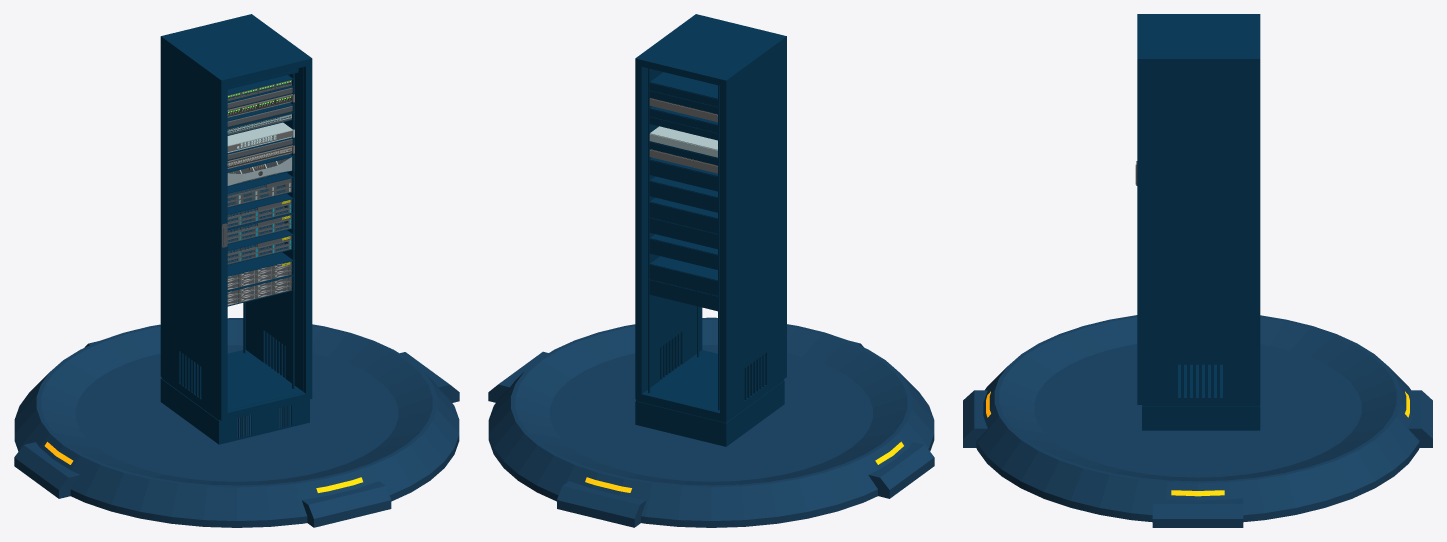
3 renders of one model, left to right at view 1: azimuth 30°, elevation 25°; view 2: azimuth 150°, elevation 25°; view 3: azimuth 270°, elevation 25°, orthographic.
Parts seen in each view (by area): view 1: Wyjf_Jg_Steel_Blue_001, JF_Gui Zi_Gray_002, JF_Men Kuang_002, JG_B_Steel_Black_001, JG_B_Chou Ti_Black_001, JG_B_Gray_001, JG_B_Chou Ti_White_001, JG_B_Kong Dong_001; view 2: Wyjf_Jg_Steel_Blue_001, JF_Gui Zi_Gray_002, JG_B_Chou Ti_Black_001, JF_Men Kuang_002, JG_B_Chou Ti_White_001, JG_B_08_Chou Ti_Black_001, JG_B_03_Chou Ti_Black_001; view 3: Wyjf_Jg_Steel_Blue_001, JF_Gui Zi_Gray_002, JF_Men Kuang_002.
Boxes of the visible parts, box(x1,y1,x2,y2) form: Wyjf_Jg_Steel_Blue_001: box(14, 318, 459, 527); JF_Gui Zi_Gray_002: box(160, 14, 309, 444); JF_Men Kuang_002: box(219, 57, 312, 420); JG_B_Steel_Black_001: box(227, 80, 292, 305); JG_B_Chou Ti_Black_001: box(227, 75, 294, 306); JG_B_Gray_001: box(227, 114, 291, 203); JG_B_Chou Ti_White_001: box(227, 122, 294, 152); JG_B_Kong Dong_001: box(227, 263, 288, 304); Wyjf_Jg_Steel_Blue_001: box(488, 317, 934, 527); JF_Gui Zi_Gray_002: box(635, 15, 784, 446); JG_B_Chou Ti_Black_001: box(649, 72, 717, 311); JF_Men Kuang_002: box(694, 14, 786, 378); JG_B_Chou Ti_White_001: box(649, 126, 717, 157); JG_B_08_Chou Ti_Black_001: box(649, 149, 717, 173); JG_B_03_Chou Ti_Black_001: box(649, 98, 717, 122); Wyjf_Jg_Steel_Blue_001: box(963, 315, 1432, 527); JF_Gui Zi_Gray_002: box(1142, 14, 1260, 430); JF_Men Kuang_002: box(1137, 14, 1141, 404).
Size of what is drawn, in the model's own units: 0.0614 by 0.0566 by 0.0614.
